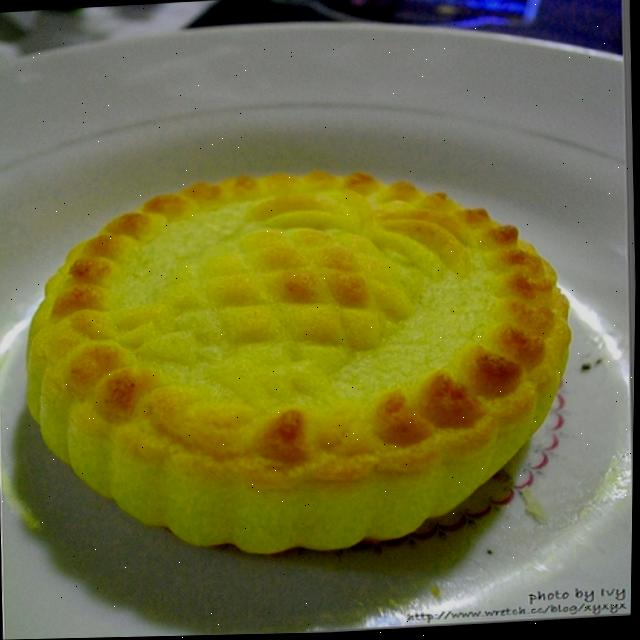蛋糕甜品: (14, 27, 617, 603)
